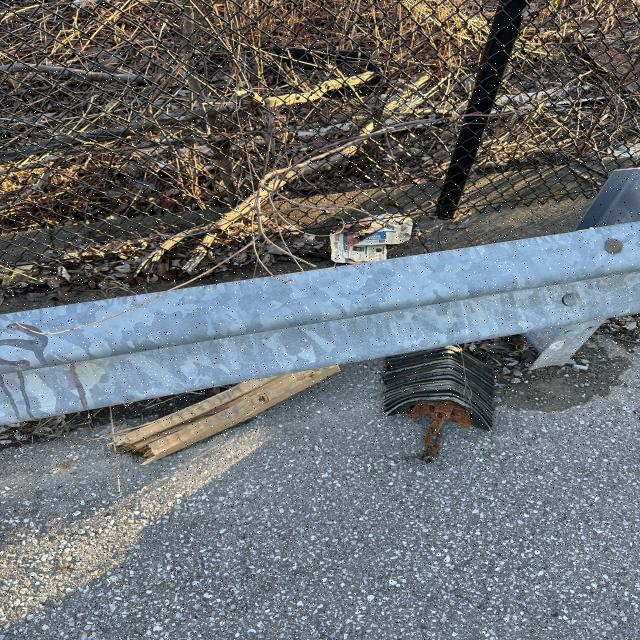Guard rail: (31, 189, 633, 408)
